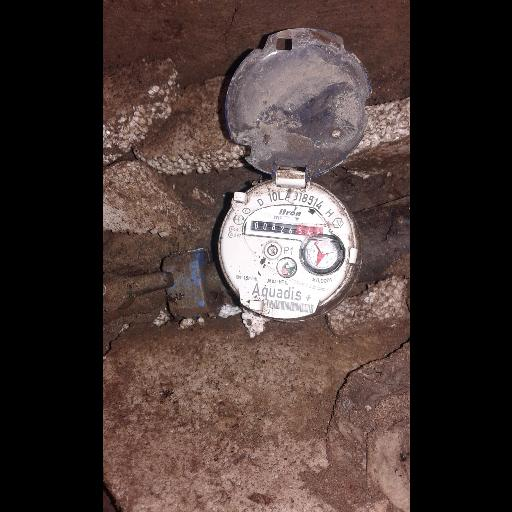0: (252, 221, 260, 232), (260, 222, 268, 233)
2: (277, 223, 286, 234)
4: (303, 226, 313, 237), (314, 227, 323, 236)
5: (295, 225, 303, 236)
6: (286, 224, 294, 235)
8: (270, 222, 277, 233)
border_water_meter_number: (249, 217, 323, 239)
